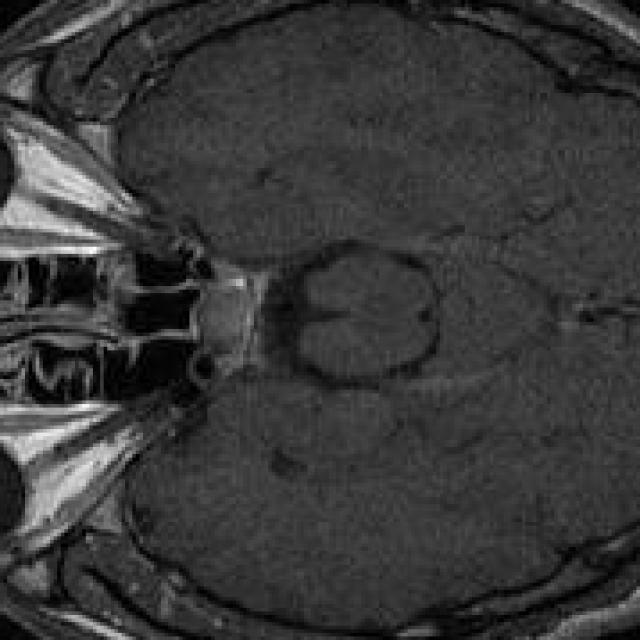pituitary: (189, 265, 272, 379)
